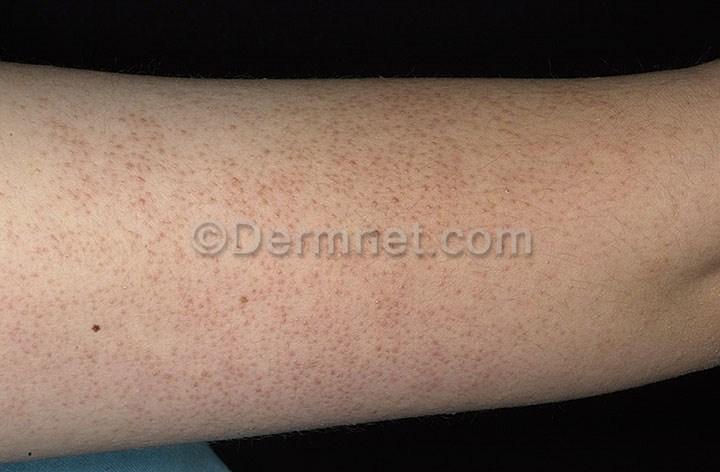edema 1: (4, 82, 626, 439)
